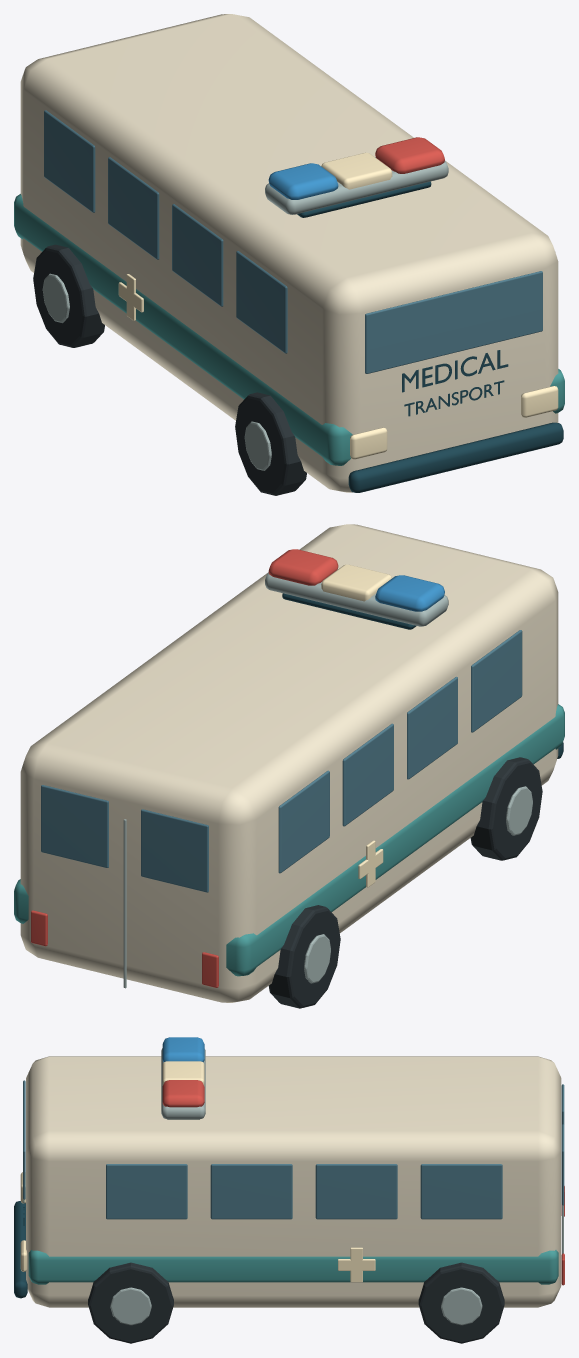
The model's file is shuttle.glb.
The picture shows the model from 3 angles, top to bottom: view 1: azimuth 30°, elevation 25°; view 2: azimuth 150°, elevation 25°; view 3: azimuth 270°, elevation 25°; orthographic projection. The views are drawn at different scales.
Parts seen in each view (by area): view 1: Shuttle body, Windscreen, Blue band, Front bumper, Shuttle wheel, Shuttle wheel.001, Passenger window, Passenger window.001, Passenger window.003, Passenger window.002, Roof light bar, Roof emergency lens (+10 smaller); view 2: Shuttle body, Blue band, Rear door window, Rear door window.001, Shuttle wheel.001, Shuttle wheel, Passenger window.002, Passenger window.003, Passenger window, Passenger window.001, Roof light bar, Roof emergency lens (+7 smaller); view 3: Shuttle body, Blue band, Passenger window.005, Passenger window.006, Passenger window.007, Passenger window.004, Shuttle wheel.003, Shuttle wheel.002, Shuttle hub.002, Shuttle hub.003, Roof emergency lens.001, Roof emergency lens (+4 smaller).
Part boxes in pixels (bbox=[...]): Shuttle body: bbox=[20, 14, 558, 492]; Windscreen: bbox=[365, 271, 542, 373]; Blue band: bbox=[14, 194, 564, 465]; Front bumper: bbox=[348, 422, 563, 492]; Shuttle wheel: bbox=[235, 392, 306, 495]; Shuttle wheel.001: bbox=[33, 244, 104, 347]; Passenger window: bbox=[236, 251, 287, 353]; Passenger window.001: bbox=[172, 204, 223, 306]; Passenger window.003: bbox=[44, 110, 95, 212]; Passenger window.002: bbox=[108, 157, 159, 259]; Roof light bar: bbox=[265, 157, 448, 214]; Roof emergency lens: bbox=[268, 163, 338, 199]; Shuttle body: bbox=[20, 524, 558, 1002]; Blue band: bbox=[14, 704, 564, 976]; Rear door window: bbox=[141, 809, 208, 892]; Rear door window.001: bbox=[41, 785, 108, 867]; Shuttle wheel.001: bbox=[268, 905, 340, 1008]; Shuttle wheel: bbox=[470, 757, 542, 860]; Passenger window.002: bbox=[342, 723, 393, 826]; Passenger window.003: bbox=[278, 770, 329, 873]; Passenger window: bbox=[471, 630, 522, 732]; Passenger window.001: bbox=[407, 676, 457, 779]; Roof light bar: bbox=[265, 569, 448, 626]; Roof emergency lens: bbox=[375, 575, 444, 611]; Shuttle body: bbox=[26, 1056, 561, 1307]; Blue band: bbox=[28, 1250, 558, 1284]; Passenger window.005: bbox=[210, 1164, 292, 1219]; Passenger window.006: bbox=[315, 1164, 397, 1219]; Passenger window.007: bbox=[420, 1164, 502, 1219]; Passenger window.004: bbox=[106, 1164, 187, 1219]; Shuttle wheel.003: bbox=[418, 1262, 504, 1343]; Shuttle wheel.002: bbox=[88, 1262, 173, 1343]; Shuttle hub.002: bbox=[110, 1287, 151, 1325]; Shuttle hub.003: bbox=[441, 1287, 482, 1325]; Roof emergency lens.001: bbox=[162, 1080, 204, 1107]; Roof emergency lens: bbox=[162, 1037, 204, 1062].
Bounding box in the file's own units: 2.38 × 2.39 × 5.25.
